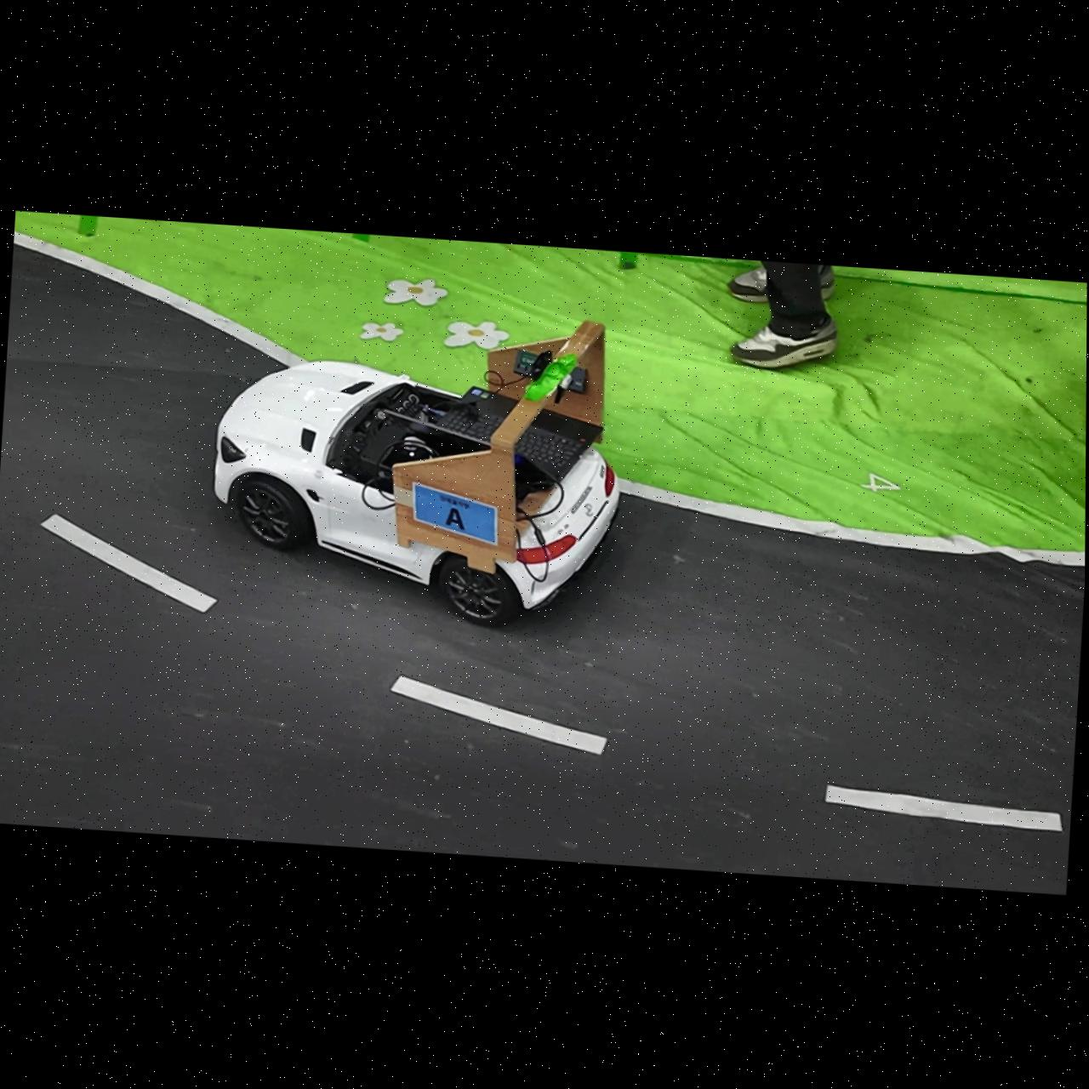broken_line: (390, 675, 607, 755), (39, 515, 216, 613), (824, 784, 1063, 832)
